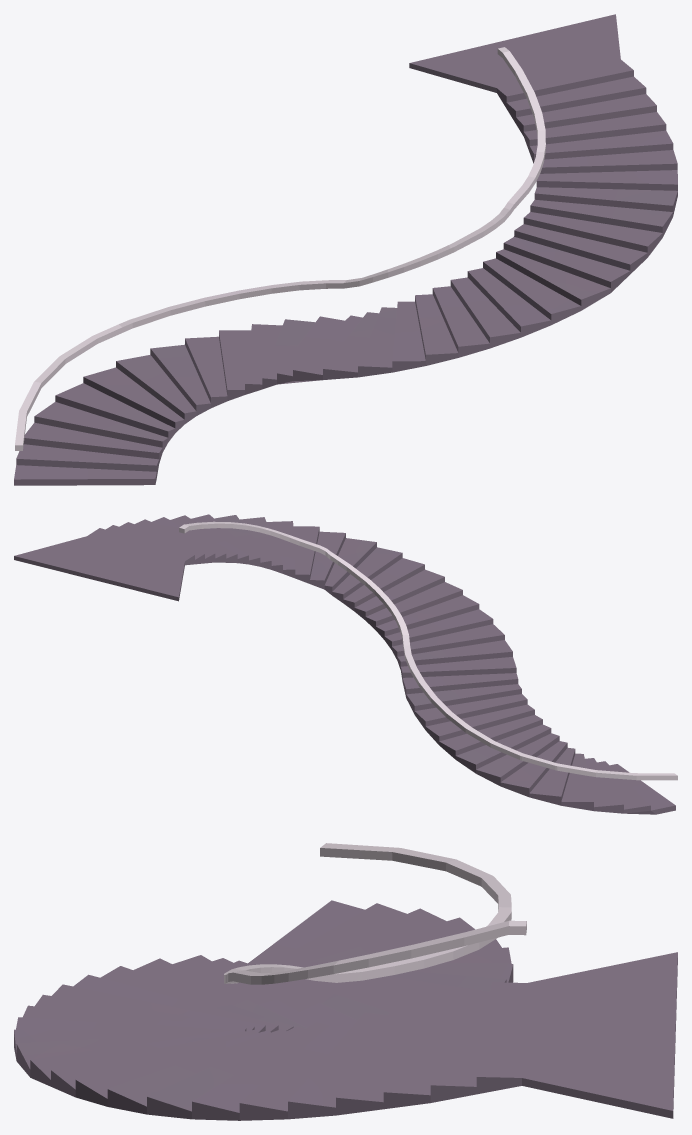
The model's file is lvl1_T_switch2_stairs.glb.
3 views of the same model, one above another, from view 1: azimuth 30°, elevation 25°; view 2: azimuth 150°, elevation 25°; view 3: azimuth 270°, elevation 25° (orthographic). The views are drawn at different scales.
Parts seen in each view (by area): view 1: lvl1_T_switch2_stairs; view 2: lvl1_T_switch2_stairs; view 3: lvl1_T_switch2_stairs.
Boxes of the visible parts, box(x1,y1,x2,y2) form: lvl1_T_switch2_stairs: box(14, 14, 677, 485); lvl1_T_switch2_stairs: box(14, 514, 677, 814); lvl1_T_switch2_stairs: box(14, 843, 677, 1120).
Bounding box in the file's own units: 20.29 × 7.08 × 10.34.
Materials: 1 (1 with a texture image).
